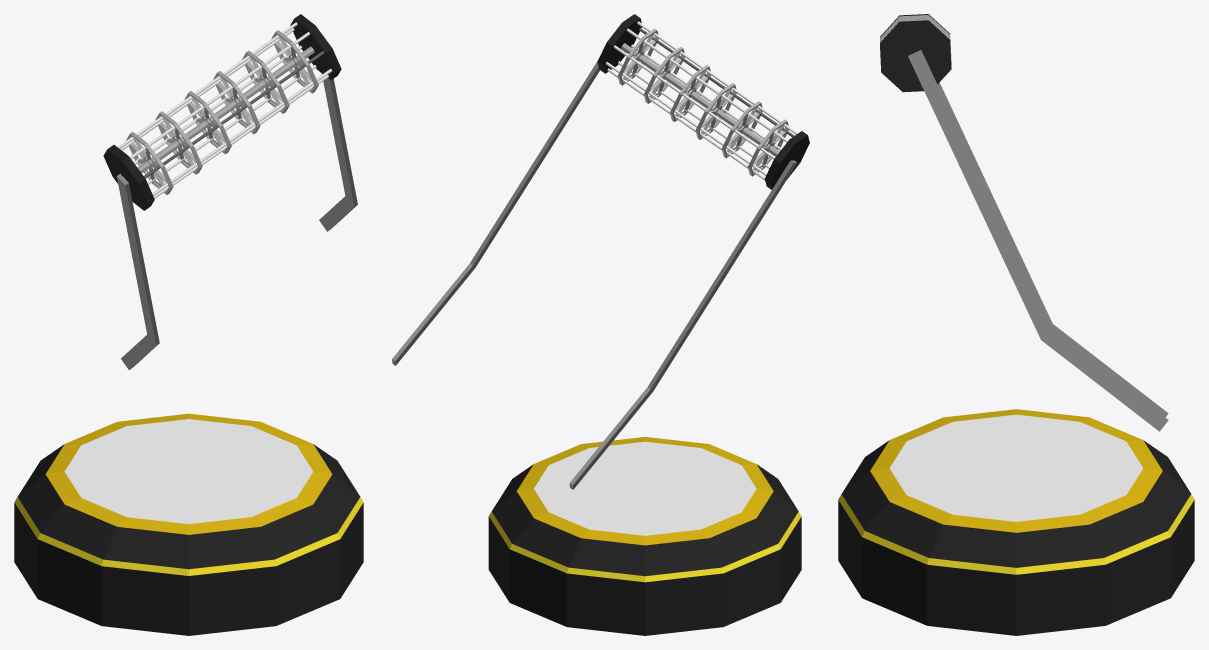
Rendered from wheat_collector_collectible.glb.
3 renders of one model, left to right at view 1: azimuth 30°, elevation 25°; view 2: azimuth 150°, elevation 25°; view 3: azimuth 270°, elevation 25°, orthographic. The views are drawn at different scales.
Parts seen in each view (by area): view 1: Stand, wheat_collector_collectible; view 2: Stand, wheat_collector_collectible; view 3: Stand, wheat_collector_collectible.
Part boxes in pixels (x1,y1,x2,y2): Stand: [14, 413, 363, 635]; wheat_collector_collectible: [103, 14, 357, 369]; Stand: [488, 437, 801, 635]; wheat_collector_collectible: [392, 14, 809, 489]; Stand: [838, 409, 1194, 635]; wheat_collector_collectible: [880, 14, 1168, 431].
Bounding box in the file's own units: 1.59 × 2.35 × 1.32.
Materials: 1 (1 with a texture image).
